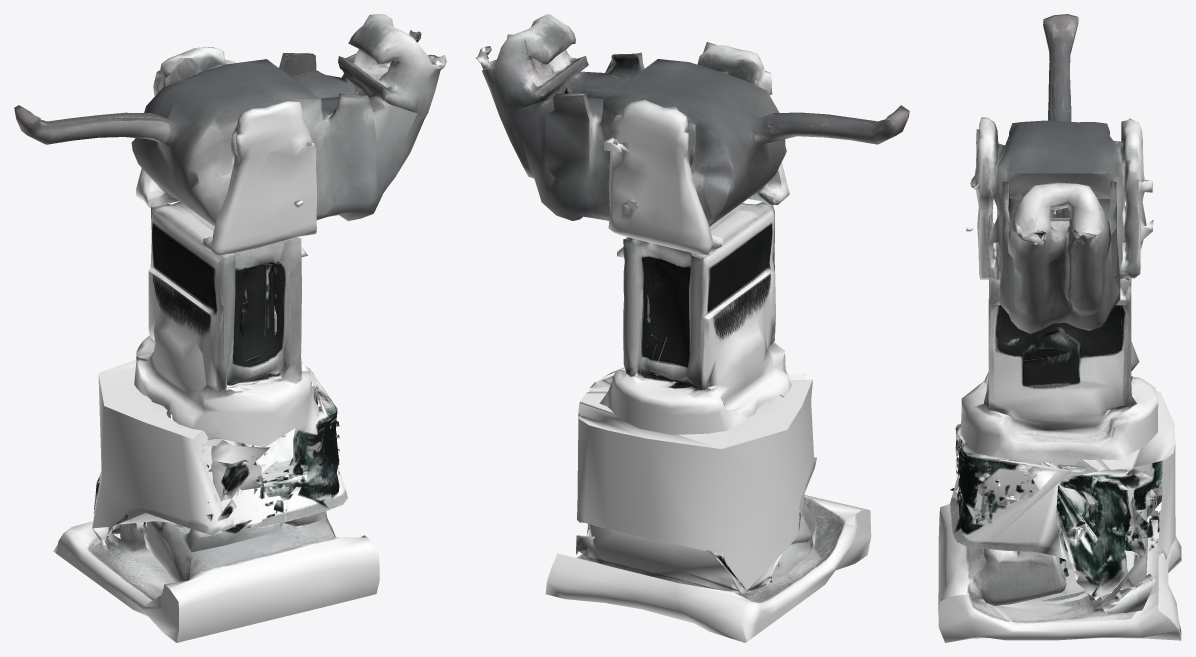
Rendered from RadarBody.min.glb.
3 views of the same model, side by side, from view 1: azimuth 30°, elevation 25°; view 2: azimuth 150°, elevation 25°; view 3: azimuth 270°, elevation 25° (orthographic). The views are drawn at different scales.
Parts seen in each view (by area): view 1: Mesh_0; view 2: Mesh_0; view 3: Mesh_0.
Boxes of the visible parts, x1=… form: Mesh_0: x1=14, y1=14, x2=446, y2=642; Mesh_0: x1=475, y1=14, x2=909, y2=642; Mesh_0: x1=938, y1=14, x2=1181, y2=642.
Bounding box in the file's own units: 1.6 × 1.89 × 0.8482.
1 material, 1 textured.
